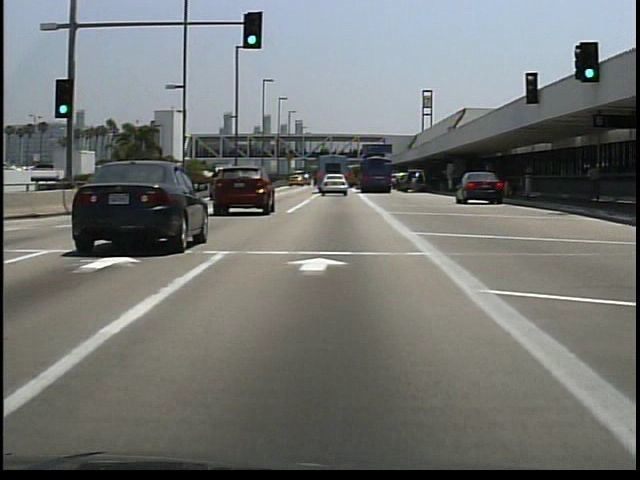person: (582, 158, 602, 208)
